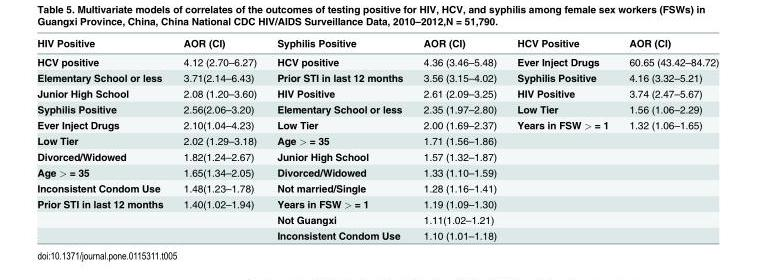table: (36, 36, 718, 240)
table column: (266, 36, 412, 240), (36, 36, 172, 240), (506, 36, 618, 240), (618, 36, 718, 240), (172, 36, 266, 240), (412, 36, 506, 240)
table column header: (36, 36, 718, 51)
table row: (36, 51, 718, 69), (36, 69, 718, 85), (36, 100, 718, 116), (36, 116, 718, 132), (36, 132, 718, 148), (36, 148, 718, 164), (36, 179, 718, 195), (36, 195, 718, 211), (36, 211, 718, 227), (36, 36, 718, 51), (36, 85, 718, 100), (36, 164, 718, 179), (36, 227, 718, 240)
table spanning cell: (36, 195, 172, 240)
